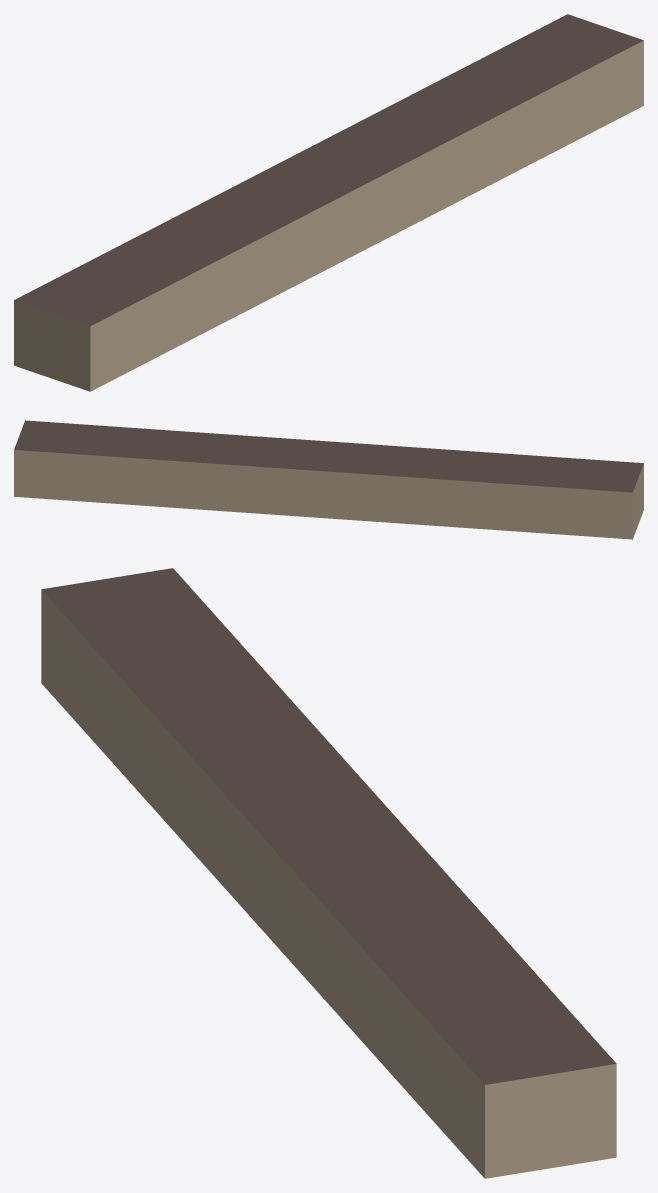
3 renders of one model, top to bottom at view 1: azimuth 30°, elevation 25°; view 2: azimuth 150°, elevation 25°; view 3: azimuth 270°, elevation 25°, orthographic. The views are drawn at different scales.
Visible parts, largest first — view 1: HP-w1376988740; view 2: HP-w1376988740; view 3: HP-w1376988740.
Boxes of the visible parts, bbox=[...] form: HP-w1376988740: bbox=[14, 14, 643, 391]; HP-w1376988740: bbox=[14, 420, 643, 539]; HP-w1376988740: bbox=[41, 568, 616, 1178].
Size of the model in its own units: 70.89 by 6 by 33.35.
